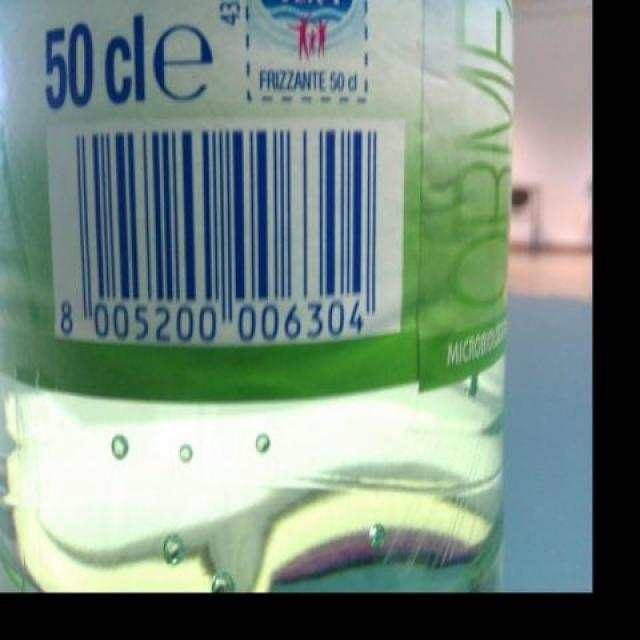Barcode: (46, 118, 406, 349)
